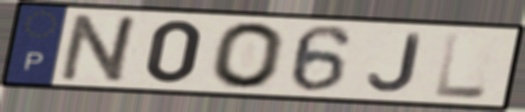0: (142, 19, 206, 85)
6: (289, 24, 355, 95)
J: (366, 31, 424, 94)
L: (433, 31, 490, 101)
N: (55, 12, 146, 85)
O: (209, 19, 288, 91)
